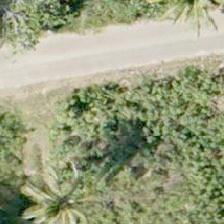Kelapa_Sawit: (14, 159, 105, 223)
